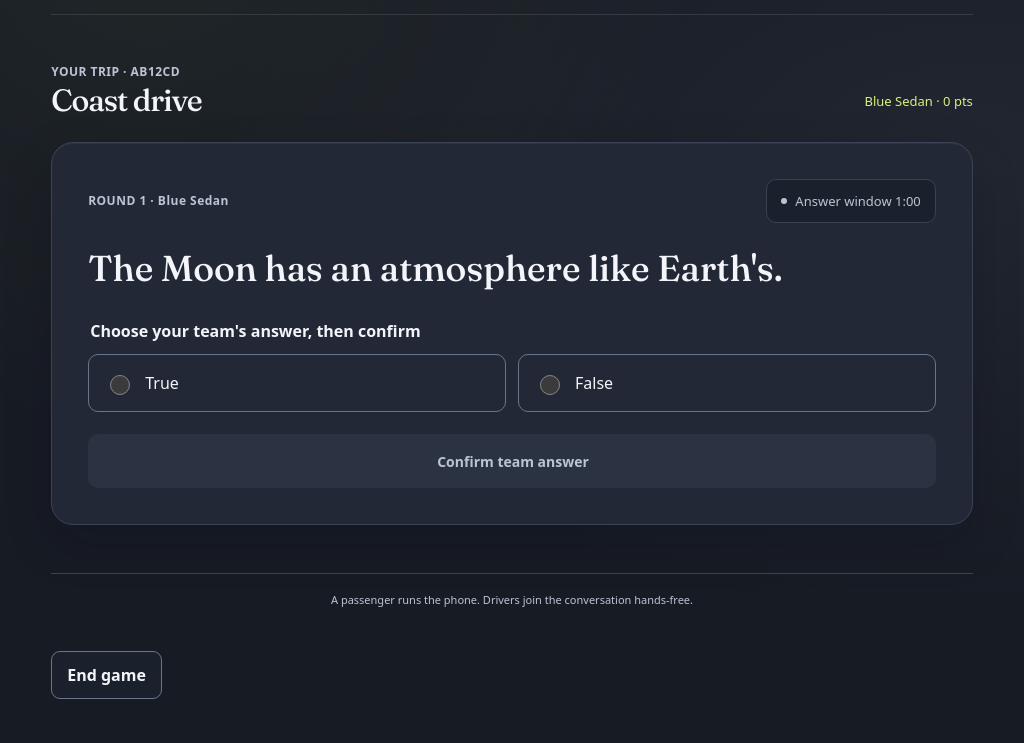
it: confirms host end and displays the server's final leaderboard
(page scrolled)
Click the button "End game". click: point(107, 675)
box: [51,651,162,699]
(page scrolled)
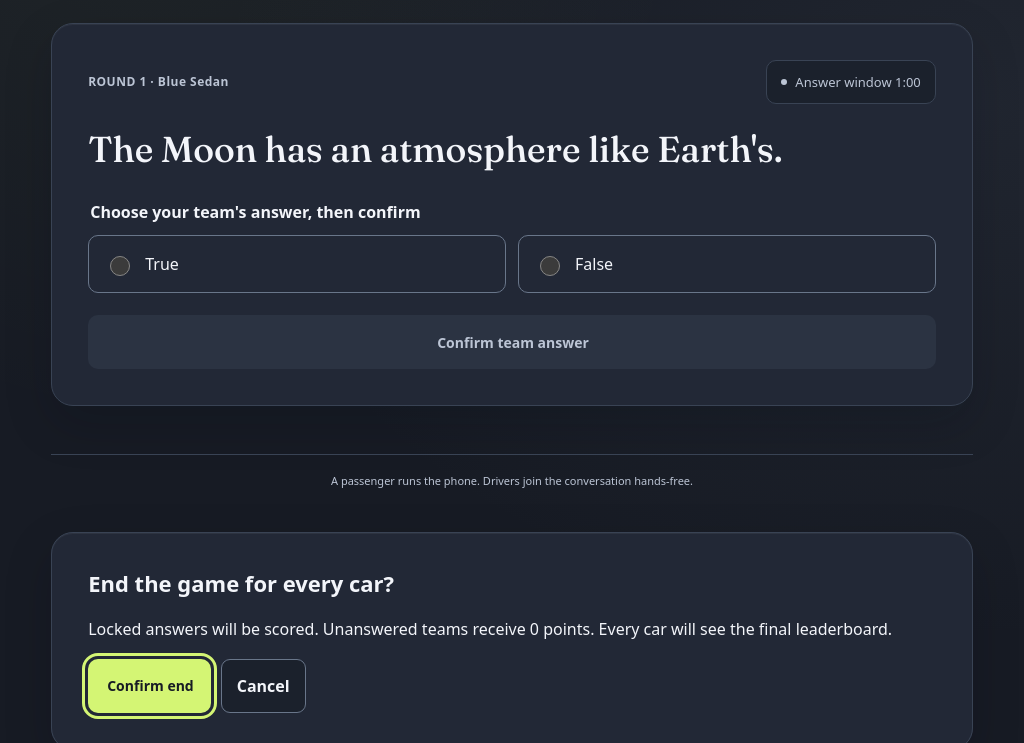
Expected: the text "Locked answers will be scored" is shown, [88,618,892,640]
Click the button "Confirm end". click: point(150, 686)
box: [88,659,211,713]
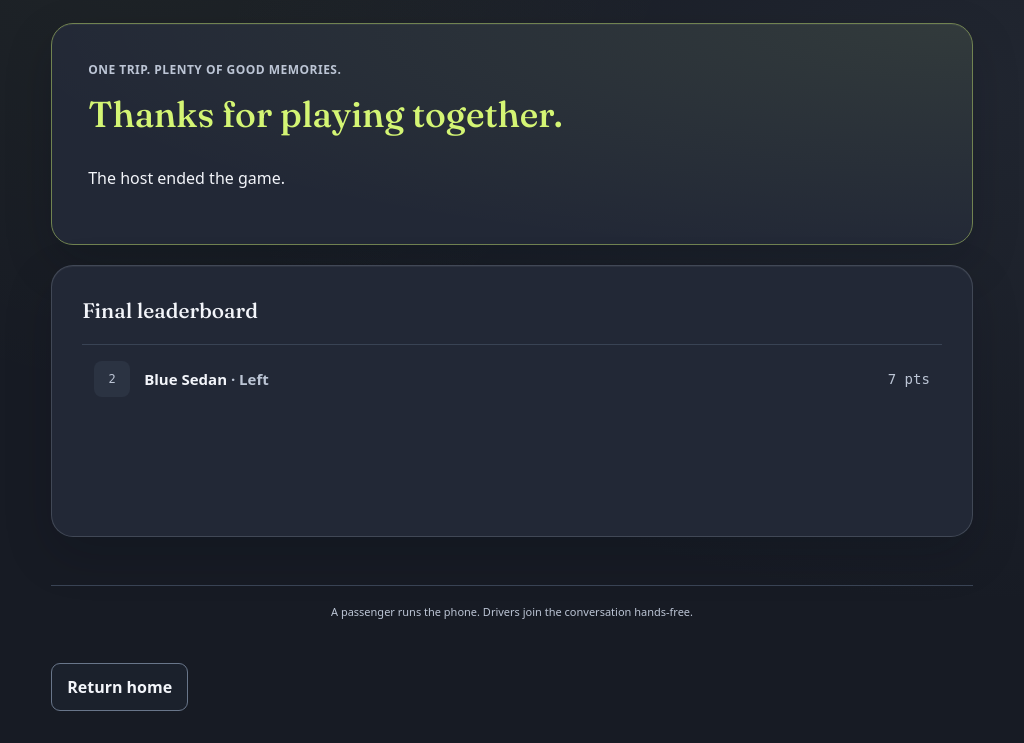
Expected: the heading "Final leaderboard" is shown, [82,297,258,323]
Expected: the text "7 pts" is shown, [888,371,930,387]
Expected: the picture named "Rank 2" is shown, [94,361,130,397]
